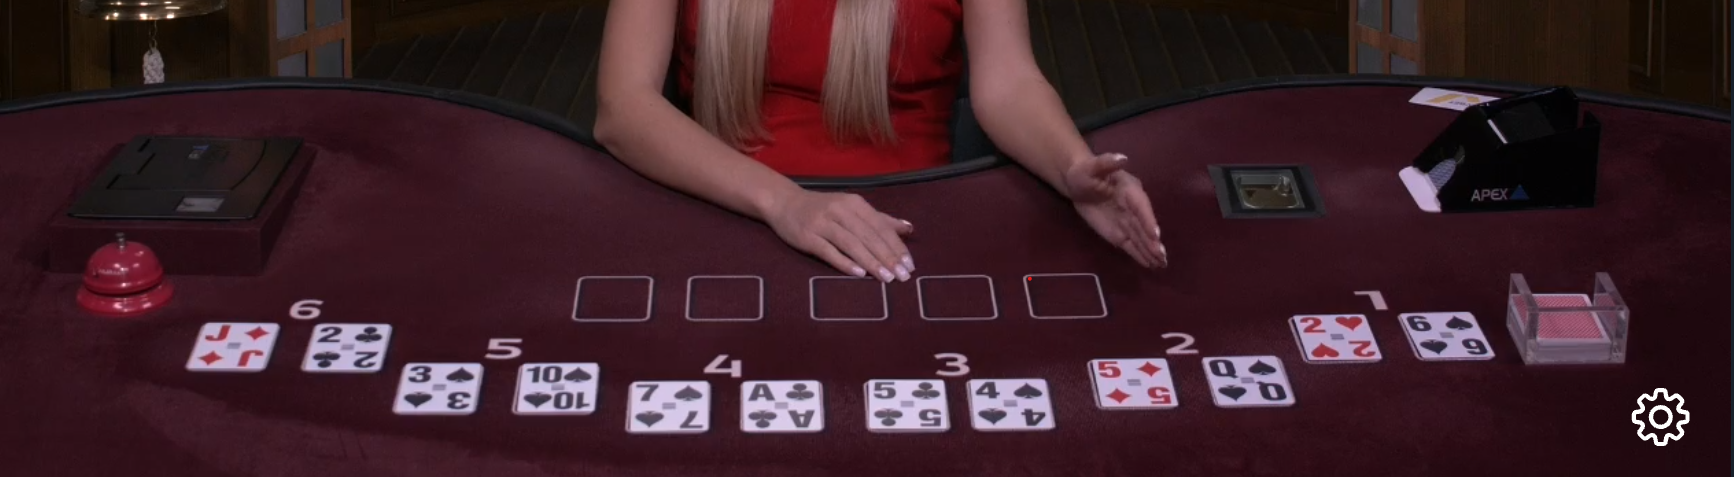10s: (505, 356, 604, 419)
2c: (305, 317, 390, 379)
2h: (1291, 305, 1381, 366)
3s: (389, 356, 487, 418)
4s: (960, 367, 1061, 434)
5c: (859, 374, 955, 437)
5d: (1086, 357, 1181, 412)
6s: (1394, 308, 1500, 365)
7s: (621, 374, 715, 442)
asc: (735, 374, 831, 439)
jd: (185, 318, 278, 381)
qs: (1194, 352, 1299, 412)
